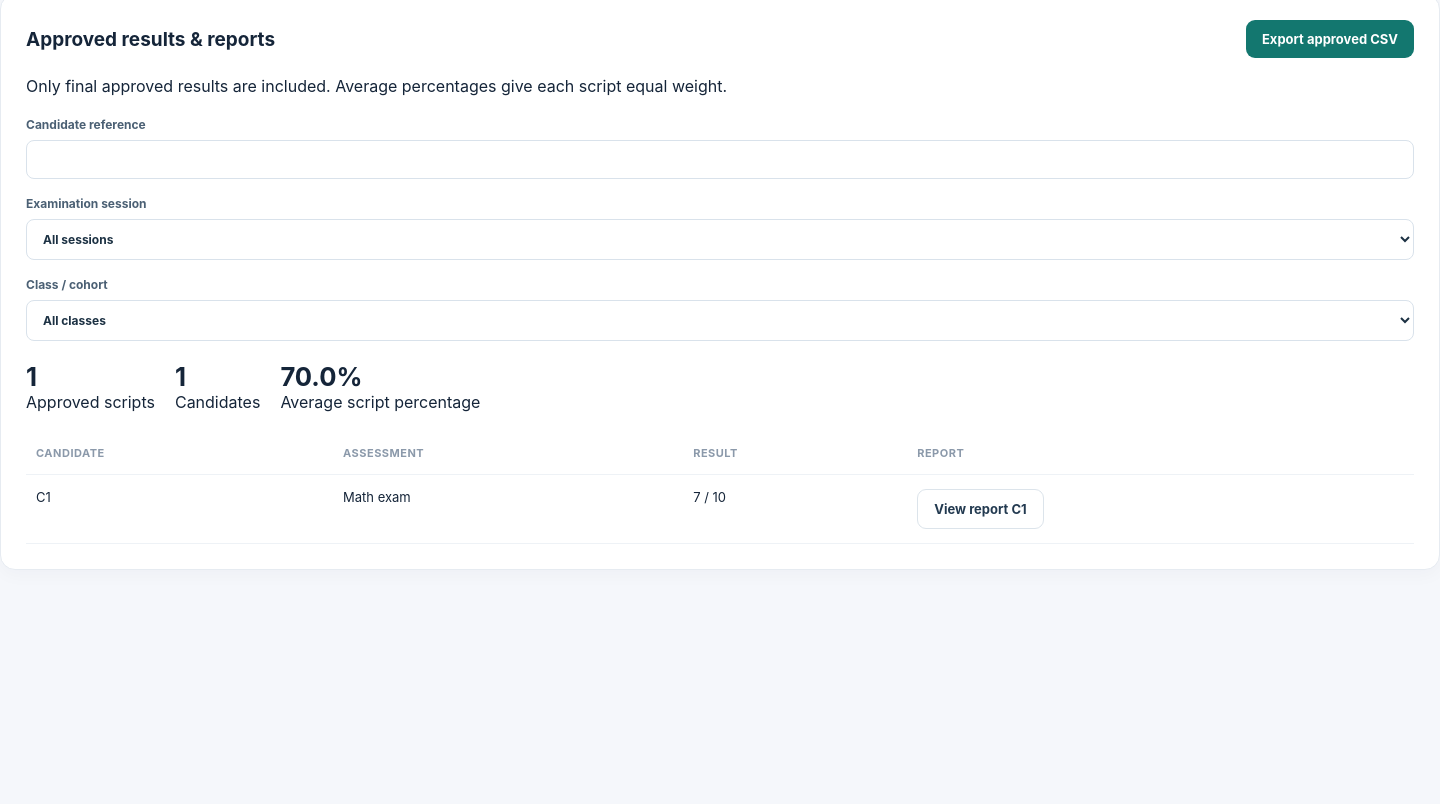
Test: Institution management workflows › shows approved learner feedback in the individual report
The width and height of the screenshot is (1440, 804).
Click the button "View report C1" at (980, 509), box [917,489,1044,529]
(page scrolled)
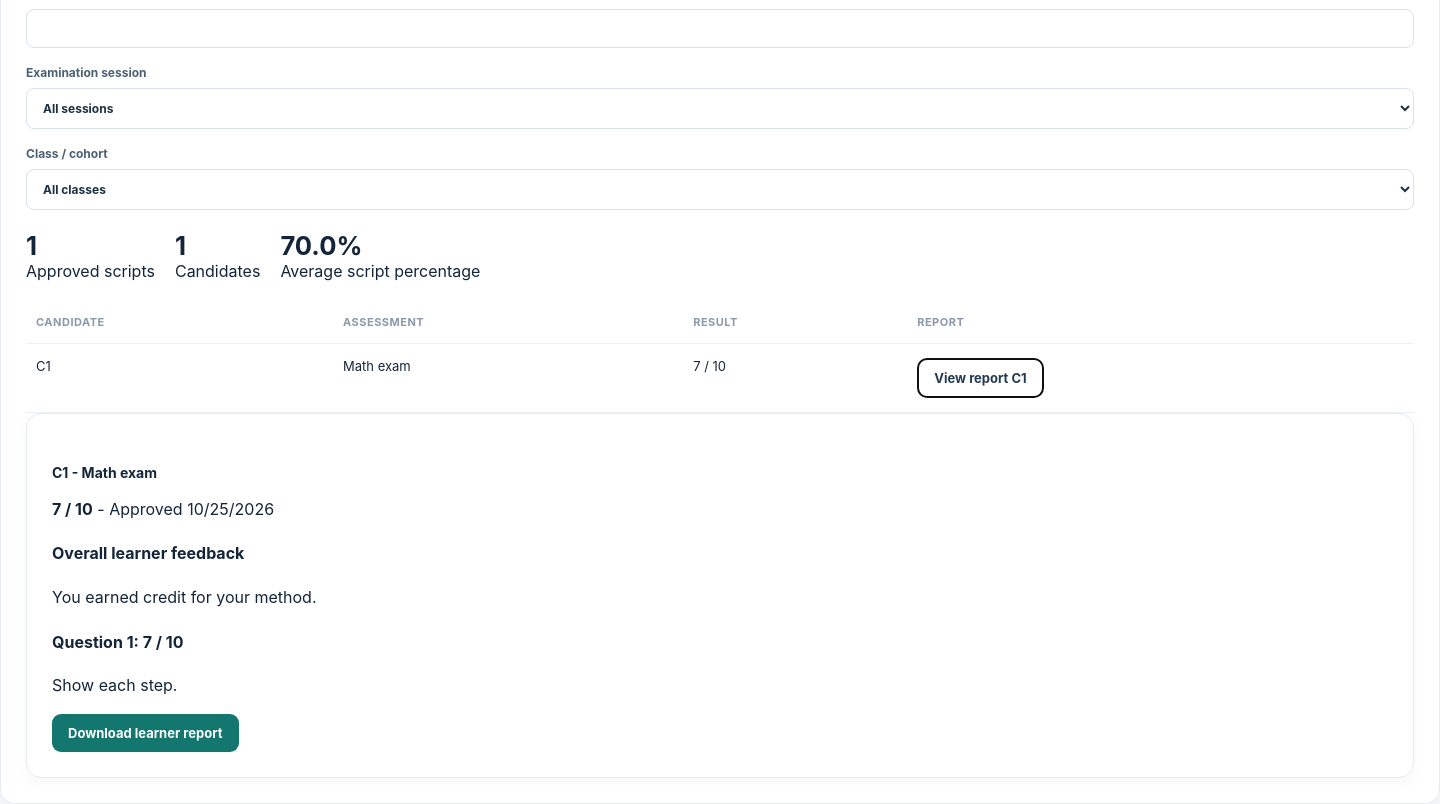
Expected: the text "You earned credit for your method." is shown, [52,587,316,607]
Expected: the text "Show each step." is shown, [52,675,178,695]
